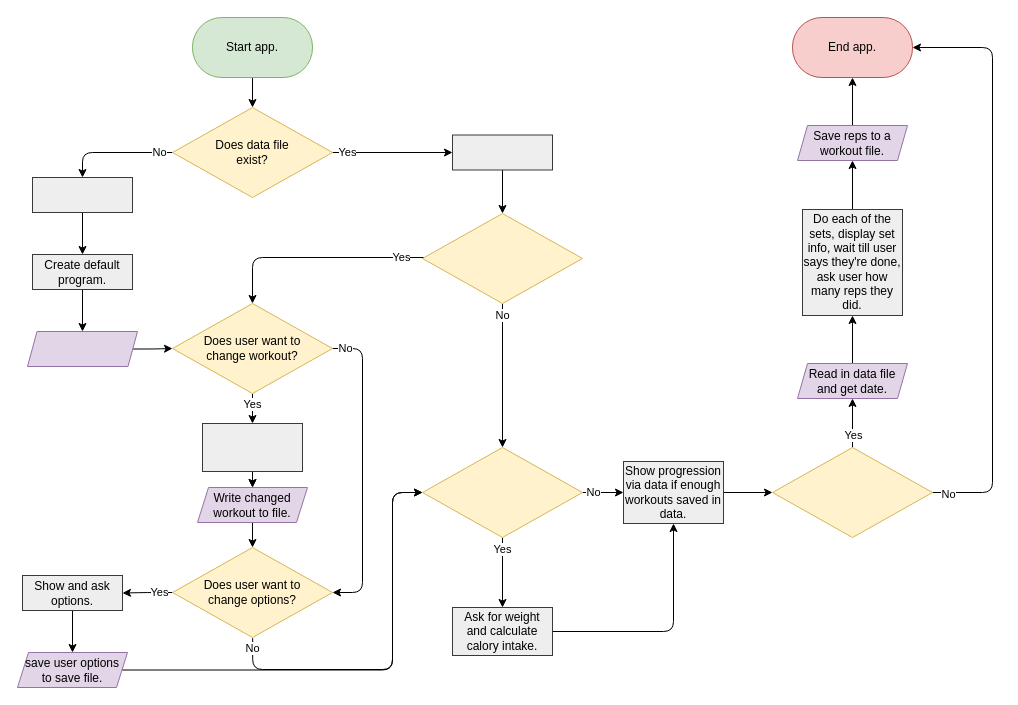
The diagram is 1018 pixels wide and 705 high, and some of its shapes have lost their labels. The shapes that lost their labels are listed below. From the top down, each one's centre as x and y in pixels, then its label:
(502,152): Display welcome back
(82,194): Display a introduction.
(502,258): Ask user: "Do you want to change options and/or workout?"
(82,348): save program to workout file.
(252,447): Change workout via asking user questions.
(502,492): Does user want to add new weight.
(852,492): Does user want to start a workout session?
